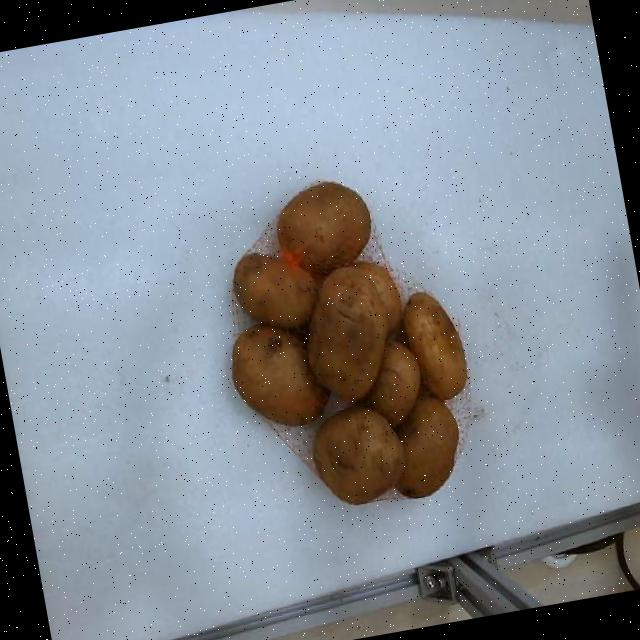potato: (307, 262, 400, 399), (231, 323, 329, 425), (276, 181, 370, 276), (313, 406, 405, 503), (402, 292, 466, 398), (396, 395, 458, 497), (234, 252, 317, 328), (366, 341, 421, 426)
